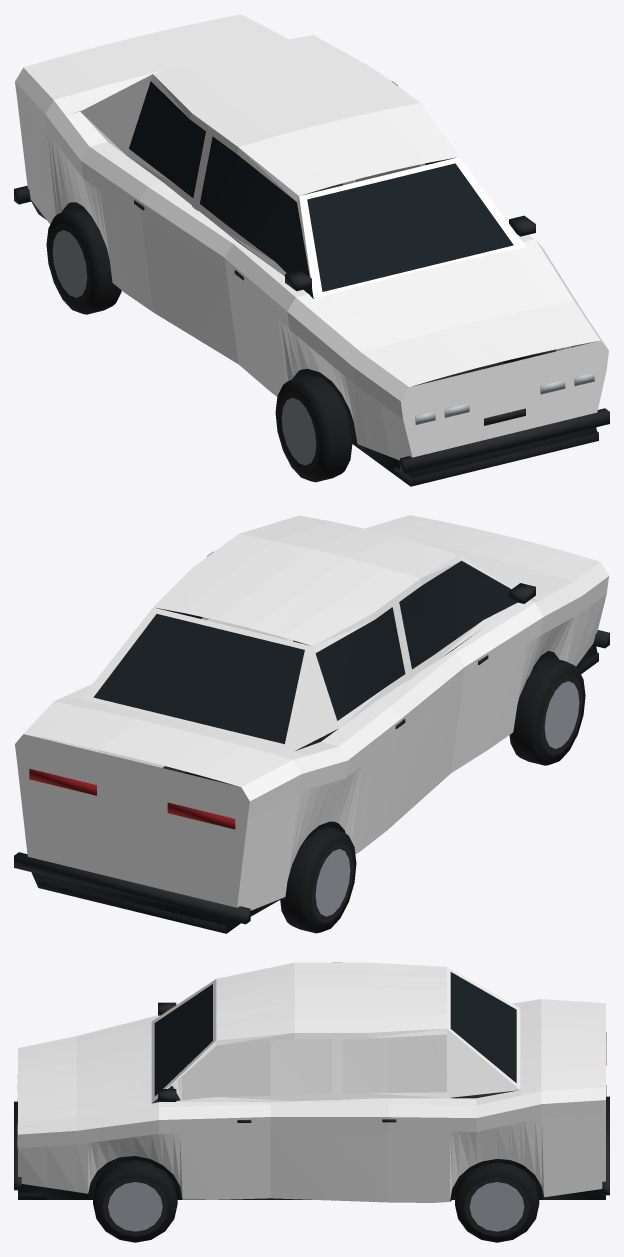
The model's file is volnar_pomar.glb.
The picture shows the model from 3 angles, top to bottom: view 1: azimuth 30°, elevation 25°; view 2: azimuth 150°, elevation 25°; view 3: azimuth 270°, elevation 25°; orthographic projection. The views are drawn at different scales.
Visible parts, largest first — view 1: Body_Paint, Body_Details, Mount_FrontLeft_Wheel_Details, Mount_RearLeft_Wheel_Details; view 2: Body_Paint, Body_Details, Mount_FrontLeft_Wheel_Details, Mount_RearLeft_Wheel_Details; view 3: Body_Paint, Body_Details, Mount_FrontRight_Wheel_Details, Mount_RearRight_Wheel_Details.
Part boxes in pixels (x1=…): Body_Paint: x1=15, y1=14, x2=608, y2=460; Body_Details: x1=14, y1=81, x2=609, y2=486; Mount_FrontLeft_Wheel_Details: x1=275, y1=374, x2=352, y2=482; Mount_RearLeft_Wheel_Details: x1=46, y1=207, x2=121, y2=314; Body_Paint: x1=15, y1=515, x2=608, y2=910; Body_Details: x1=14, y1=560, x2=609, y2=933; Mount_FrontLeft_Wheel_Details: x1=509, y1=657, x2=585, y2=765; Mount_RearLeft_Wheel_Details: x1=280, y1=827, x2=356, y2=933; Body_Paint: x1=18, y1=962, x2=605, y2=1202; Body_Details: x1=14, y1=972, x2=609, y2=1201; Mount_FrontRight_Wheel_Details: x1=93, y1=1160, x2=177, y2=1242; Mount_RearRight_Wheel_Details: x1=455, y1=1162, x2=539, y2=1242.
Size of the model in its own units: 1.73 by 1.56 by 4.24.
2 materials, 1 textured.
